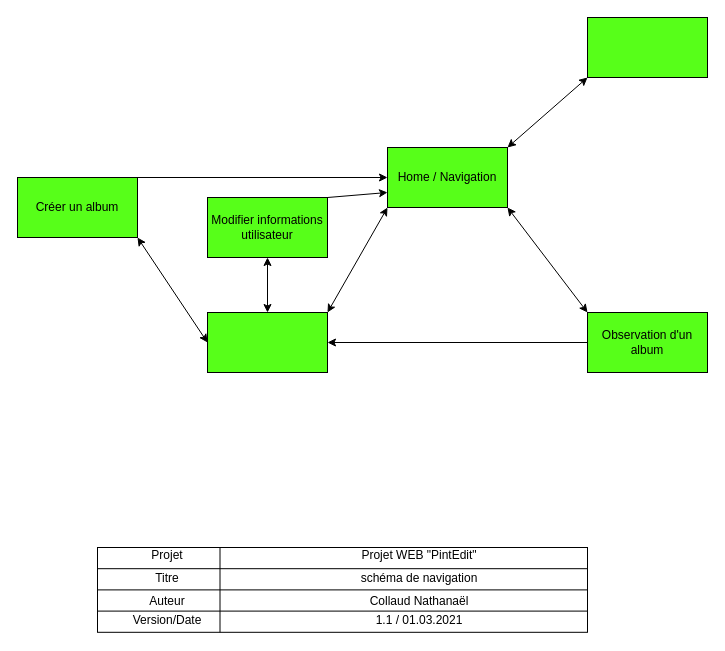
This 725x651 diagram has some shape labels left out. The shapes that lost their labels are listed below. From the top down, each one's box as (x1, y1, x2, y2) in pixels, then its label:
(586, 16, 708, 78): Connexion / Inscription
(206, 312, 328, 372): Compte
